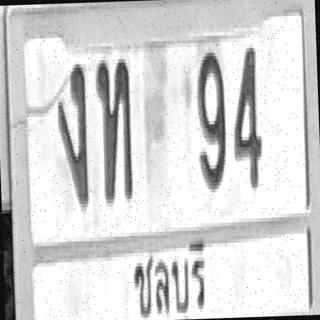A07: (55, 58, 89, 206)
A23: (95, 54, 133, 201)
N04: (230, 42, 263, 186)
N09: (196, 47, 227, 188)
P13: (122, 219, 211, 320)
